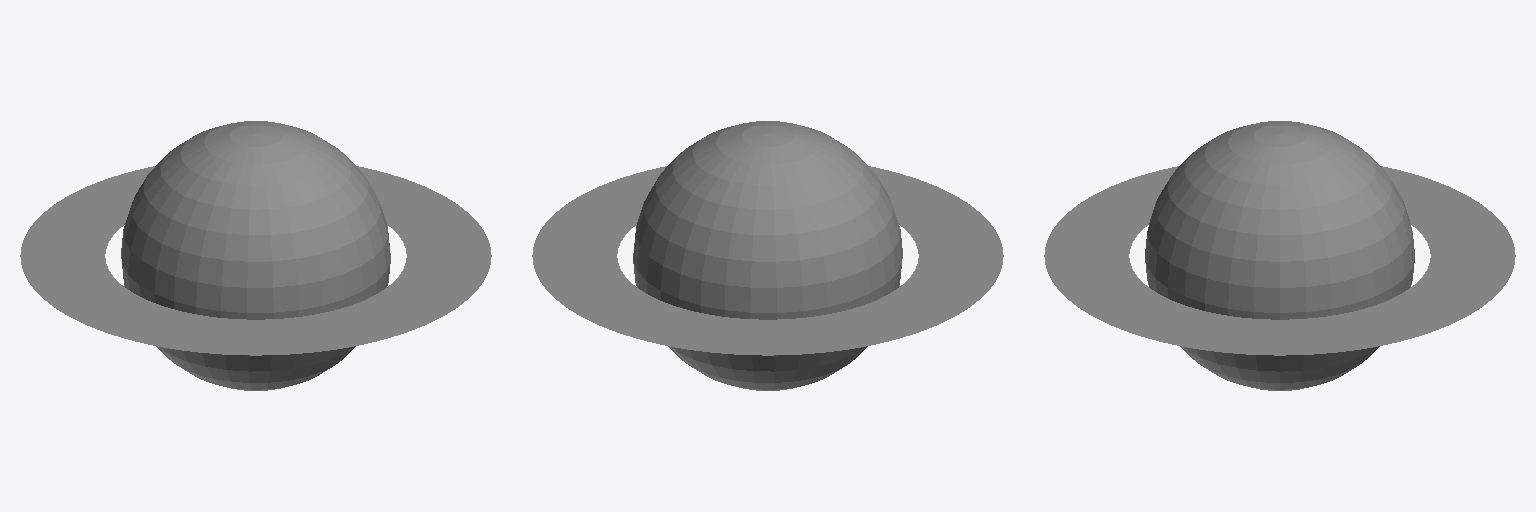
The picture shows the model from 3 angles: view 1: azimuth 30°, elevation 25°; view 2: azimuth 150°, elevation 25°; view 3: azimuth 270°, elevation 25°; orthographic projection.
Parts seen in each view (by area): view 1: Uranus_, Rings; view 2: Uranus_, Rings; view 3: Uranus_, Rings.
Boxes of the visible parts, x1=… form: Uranus_: x1=121, y1=121, x2=390, y2=390; Rings: x1=20, y1=166, x2=491, y2=355; Uranus_: x1=633, y1=121, x2=902, y2=390; Rings: x1=532, y1=166, x2=1003, y2=355; Uranus_: x1=1145, y1=121, x2=1414, y2=390; Rings: x1=1044, y1=166, x2=1515, y2=355.
Size of the model in its own units: 142 by 81.77 by 142.